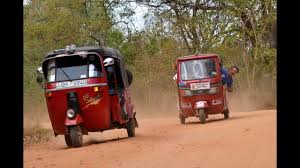tuk tuk: (42, 43, 139, 149), (171, 54, 230, 123)
